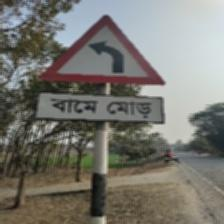Left-Turn: (35, 14, 169, 126)
